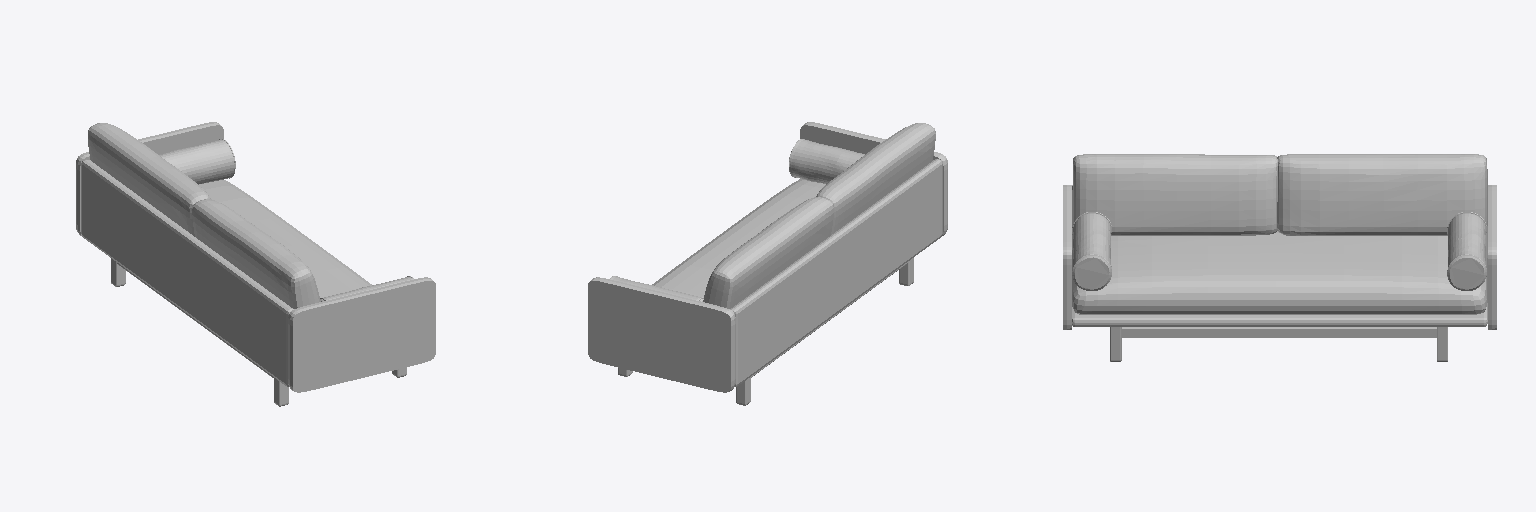
The model's file is couch_real3.obj.
The picture shows the model from 3 angles: view 1: azimuth 30°, elevation 25°; view 2: azimuth 150°, elevation 25°; view 3: azimuth 270°, elevation 25°; orthographic projection.
Parts seen in each view (by area): view 1: couch_real; view 2: couch_real; view 3: couch_real.
Part boxes in pixels (bbox=[...]): couch_real: bbox=[76, 122, 435, 406]; couch_real: bbox=[588, 122, 947, 405]; couch_real: bbox=[1063, 154, 1496, 361].
Size of the model in its own units: 5.35 by 5.22 by 13.84.